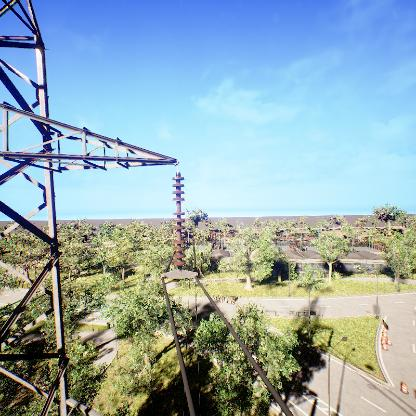insulator: (170, 174, 185, 268)
